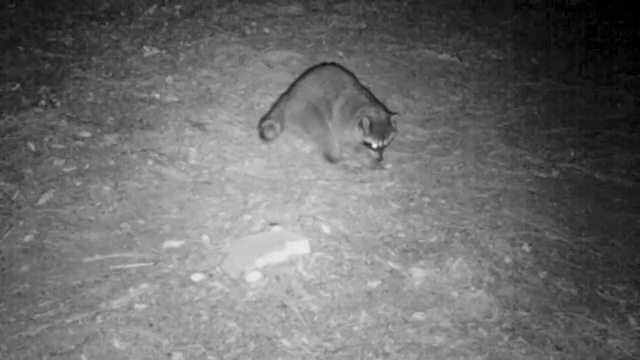raccoon: (257, 59, 403, 172)
